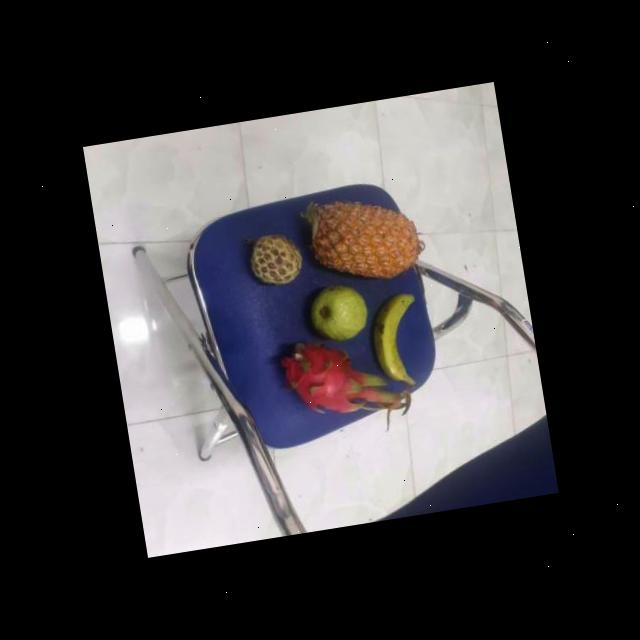Sakya fruit: (245, 225, 304, 287)
guava: (304, 278, 371, 346)
pineapple: (296, 186, 422, 290)
pitaya: (278, 328, 385, 421)
